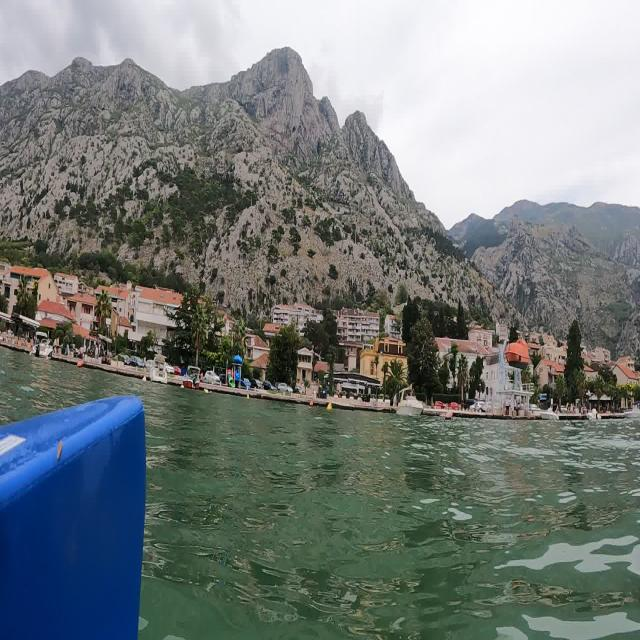boat: (394, 379, 428, 421)
